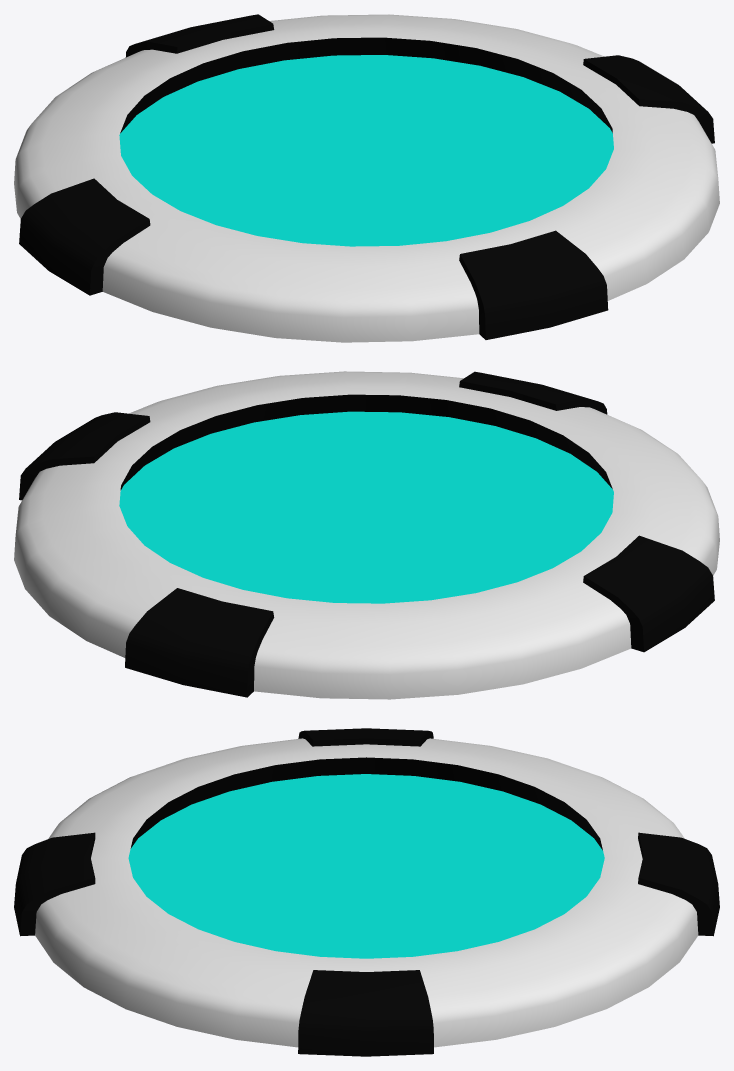
File: InfoFloater.fbx
3 renders of one model, top to bottom at view 1: azimuth 30°, elevation 25°; view 2: azimuth 150°, elevation 25°; view 3: azimuth 270°, elevation 25°, orthographic. The views are drawn at different scales.
Visible parts, largest first — view 1: Cylinder; view 2: Cylinder; view 3: Cylinder.
Boxes of the visible parts, box(x1,y1,x2,y2) form: Cylinder: box(14, 14, 719, 342); Cylinder: box(14, 371, 719, 699); Cylinder: box(14, 728, 719, 1056).
Bounding box in the file's own units: 321 × 33.14 × 321.
